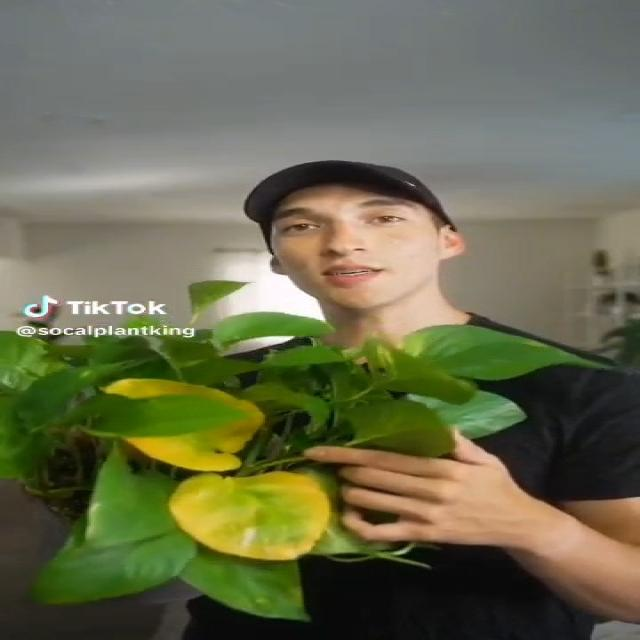lisc_przelany: (167, 472, 332, 562), (107, 379, 265, 472)
roslina_przelana: (0, 313, 615, 621)
